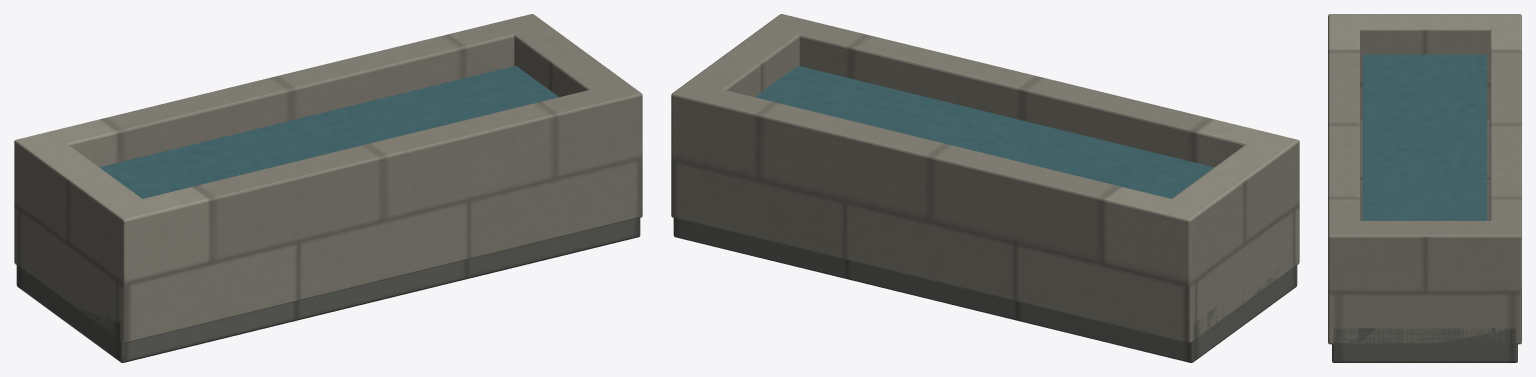
The model's file is Water_Trough.fbx.
3 renders of one model, left to right at view 1: azimuth 30°, elevation 25°; view 2: azimuth 150°, elevation 25°; view 3: azimuth 270°, elevation 25°, orthographic. The views are drawn at different scales.
Visible parts, largest first — view 1: Water_Trough.001; view 2: Water_Trough.001; view 3: Water_Trough.001.
Part boxes in pixels (x1,y1,x2,y2): Water_Trough.001: (14, 14, 642, 362); Water_Trough.001: (671, 14, 1299, 362); Water_Trough.001: (1328, 14, 1521, 362).
Bounding box in the file's own units: 2.8 × 0.75 × 1.03.
